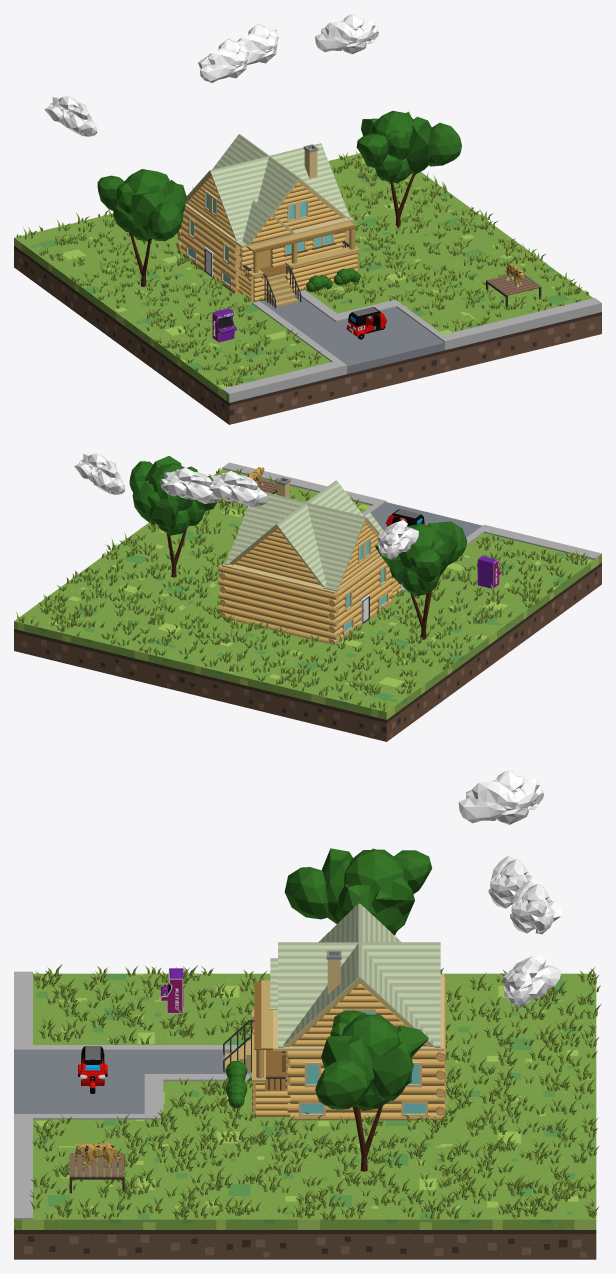
3 views of the same model, one above another, from view 1: azimuth 30°, elevation 25°; view 2: azimuth 150°, elevation 25°; view 3: azimuth 270°, elevation 25° (orthographic). The views are drawn at different scales.
Visible parts, largest first — view 1: Cube.006, Cube.1516, Circle.012_Grass_0.192, Cube.007, tree, tree.001, VEHICLES_TUC_TUC, Cube.009, OBJRANDOM_ARCADE; view 2: Cube.006, Cube.1516, Circle.012_Grass_0.192, Cube.007, tree.001, tree, OBJRANDOM_ARCADE, VEHICLES_TUC_TUC; view 3: Cube.006, Circle.012_Grass_0.192, Cube.1516, tree, Cube.007, tree.001, Cube.009, VEHICLES_TUC_TUC, OBJRANDOM_ARCADE, ANIMAL_JAGUAR.
Part boxes in pixels (left/top/right/bottom): Cube.006: left=14, top=153, right=601, bottom=424; Cube.1516: left=176, top=134, right=359, bottom=308; Circle.012_Grass_0.192: left=16, top=150, right=588, bottom=386; Cube.007: left=44, top=14, right=378, bottom=136; tree: left=356, top=110, right=461, bottom=228; tree.001: left=97, top=169, right=186, bottom=286; VEHICLES_TUC_TUC: left=346, top=307, right=387, bottom=339; Cube.009: left=486, top=274, right=541, bottom=306; OBJRANDOM_ARCADE: left=212, top=308, right=236, bottom=342; Cube.006: left=14, top=462, right=601, bottom=741; Cube.1516: left=218, top=477, right=401, bottom=644; Circle.012_Grass_0.192: left=16, top=468, right=588, bottom=711; Cube.007: left=74, top=453, right=418, bottom=559; tree.001: left=375, top=521, right=467, bottom=639; tree: left=129, top=456, right=216, bottom=577; OBJRANDOM_ARCADE: left=477, top=555, right=501, bottom=588; VEHICLES_TUC_TUC: left=385, top=509, right=424, bottom=526; Cube.006: left=14, top=971, right=596, bottom=1259; Circle.012_Grass_0.192: left=29, top=964, right=601, bottom=1220; Cube.1516: left=223, top=903, right=445, bottom=1120; tree: left=315, top=1010, right=428, bottom=1171; Cube.007: left=458, top=770, right=561, bottom=1007; tree.001: left=284, top=848, right=432, bottom=935; Cube.009: left=69, top=1153, right=124, bottom=1193; VEHICLES_TUC_TUC: left=78, top=1046, right=107, bottom=1093; OBJRANDOM_ARCADE: left=160, top=968, right=183, bottom=1013; ANIMAL_JAGUAR: left=75, top=1142, right=123, bottom=1167.
Size of the model in its own units: 4071 by 2175 by 4040.
47 materials, 4 textured.
